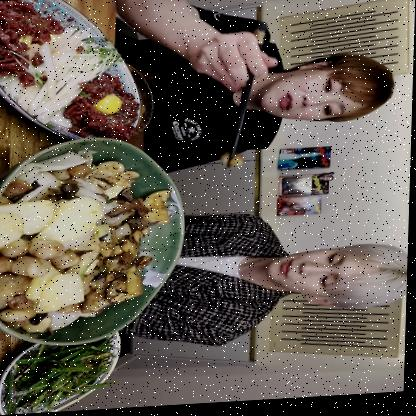streamer: (109, 0, 399, 177), (120, 207, 411, 353)
